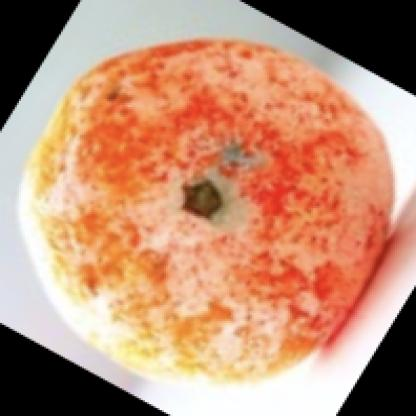rotten: (20, 38, 394, 384)
